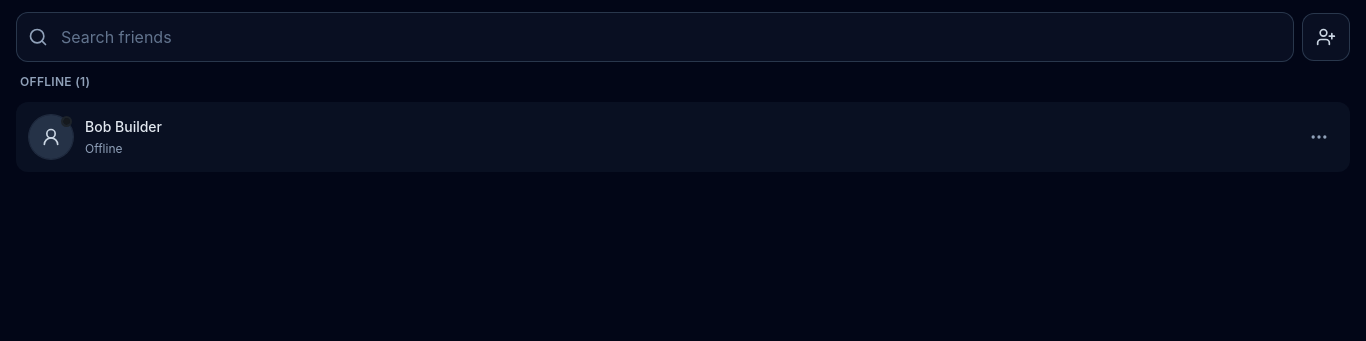
it: Blocking › asks before blocking a friend, then moves them to the blocked list
Click the button named "More actions for Bob Builder" at (1319, 137), box [1297,115,1341,159]
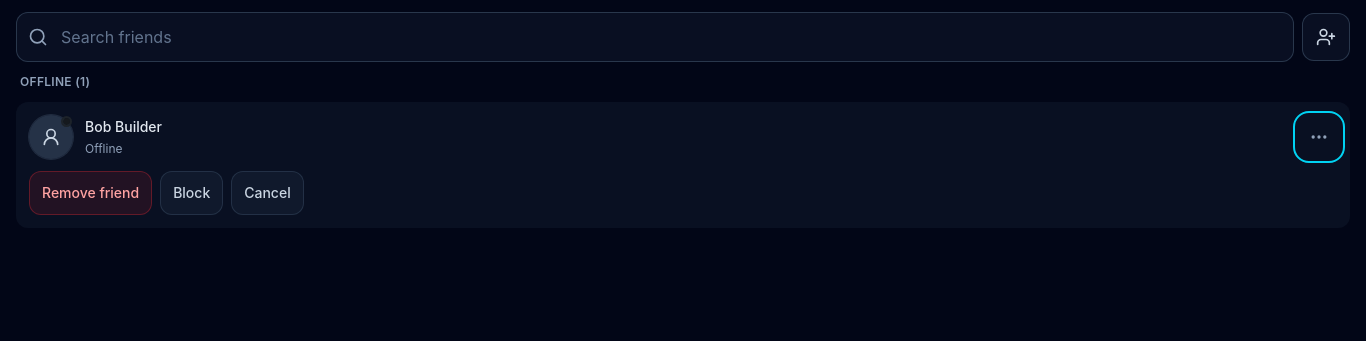
Click the button "Block" at (192, 193), box [160,171,223,215]
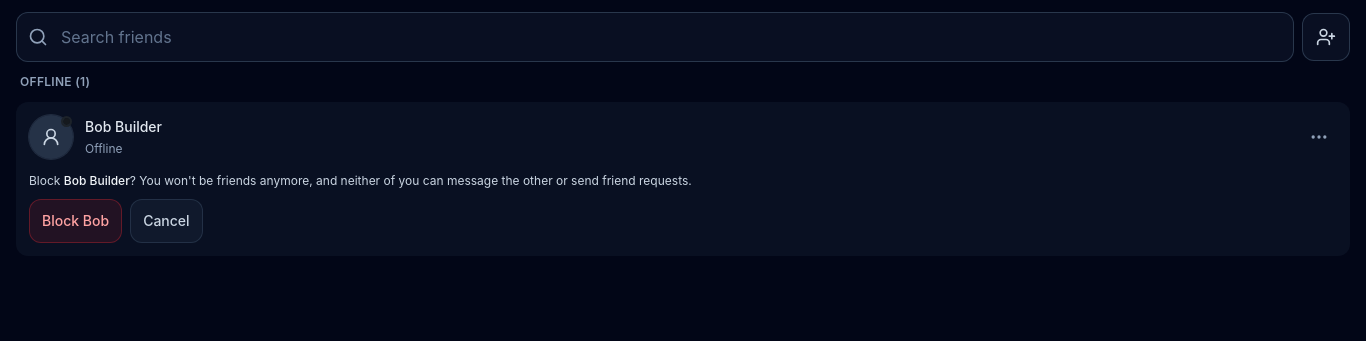
Check: the text "You won't be friends anymore" is shown, box [130,173,692,188]
Click the button "Block Bob" at (76, 220), box [29,198,122,242]
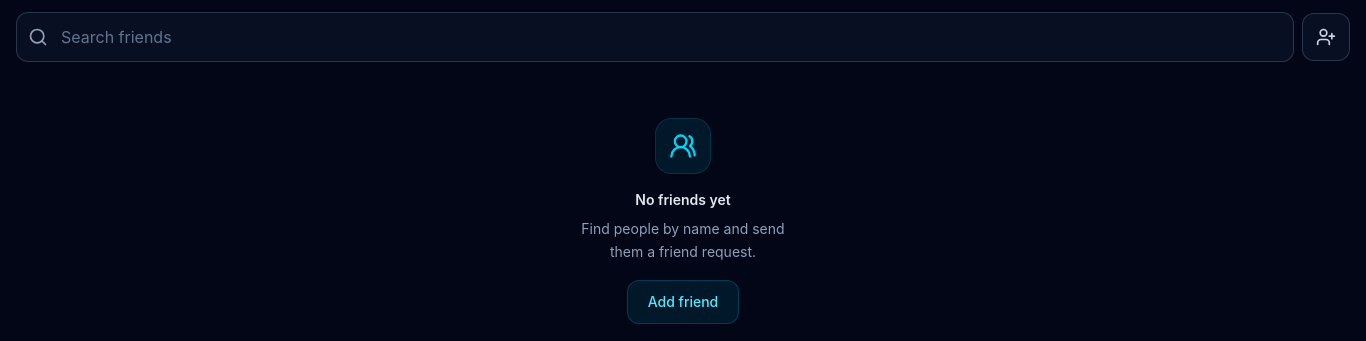
Check: the button "Bob Builder" is gone
